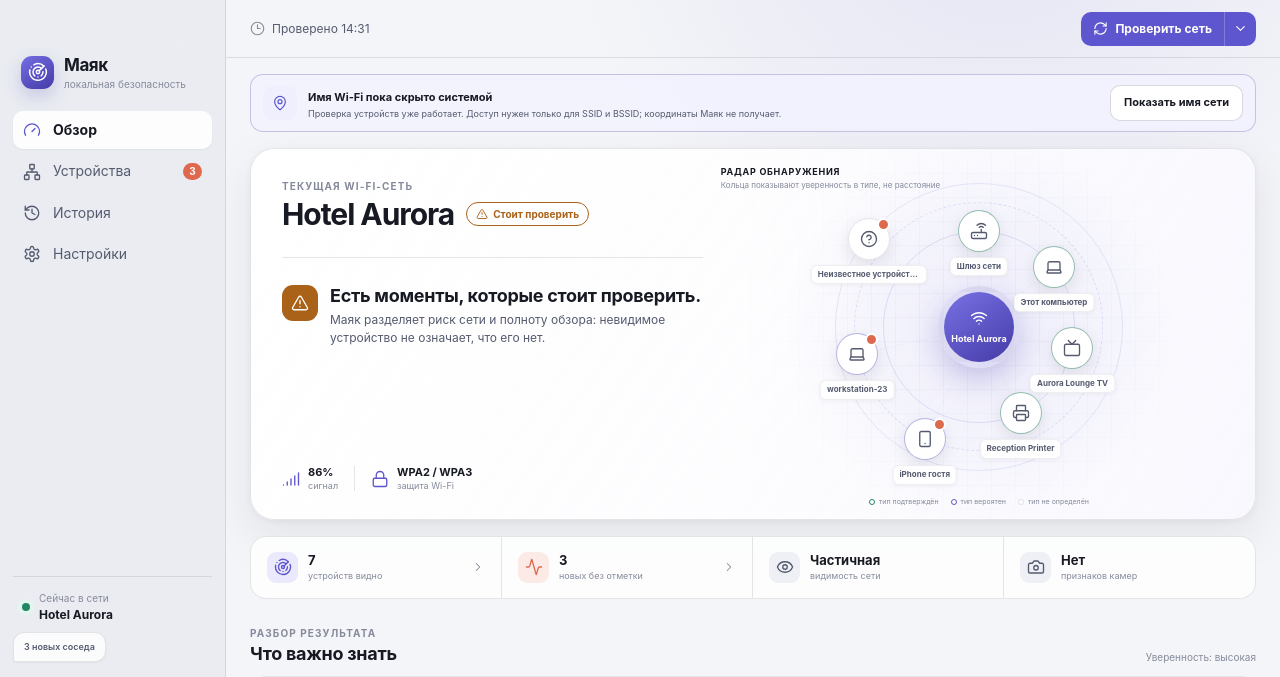
Test case: Маяк › объясняет границы углублённой проверки до запуска
This screenshot has width=1280, height=677.
Expected: the heading "Hotel Aurora" is shown, x1=282 y1=198 x2=454 y2=230
Click the button named "Углублённая проверка" at x=1240, y=28, box x1=1224 y1=12 x2=1256 y2=46
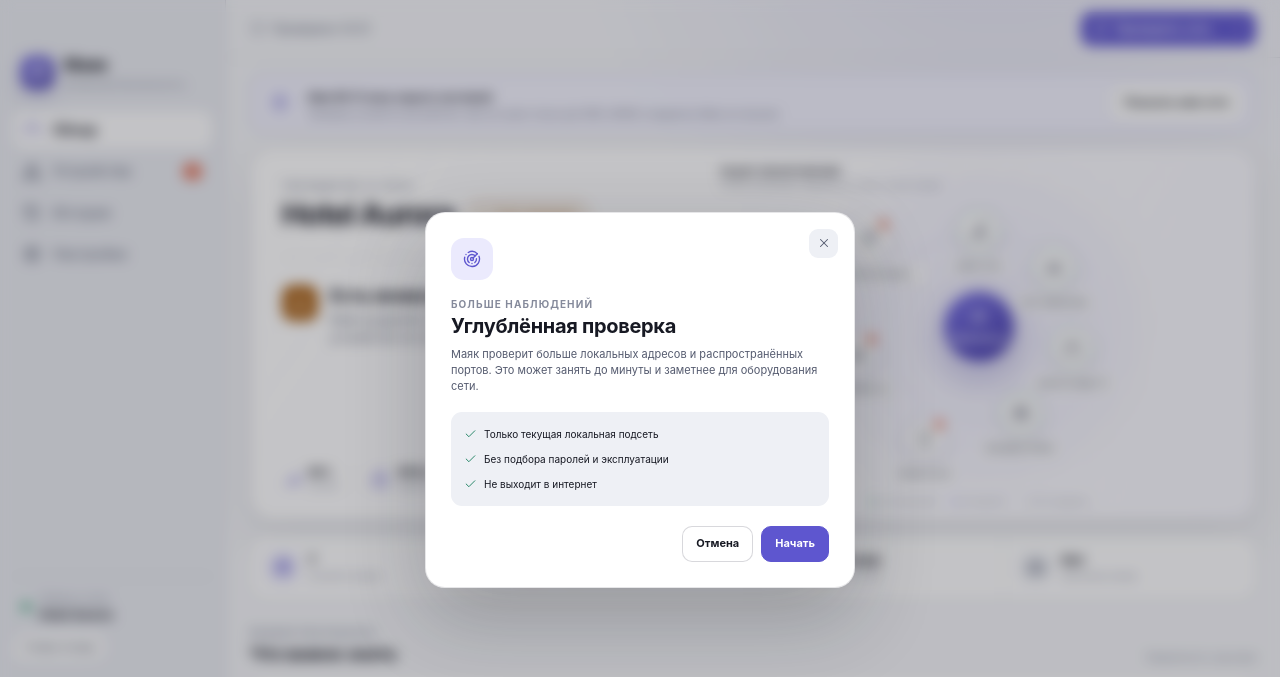
Expected: the dialog "Углублённая проверка" is shown, x1=425 y1=212 x2=855 y2=588
Expected: the text "Без подбора паролей и эксплуатации" is shown, x1=464 y1=450 x2=668 y2=468
